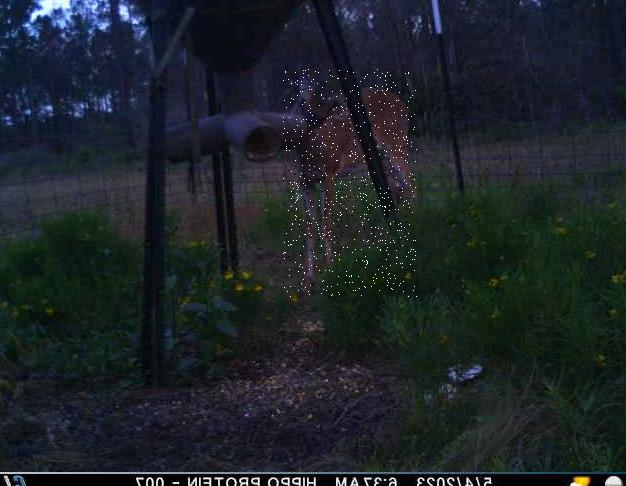Deer: (283, 70, 417, 298)
